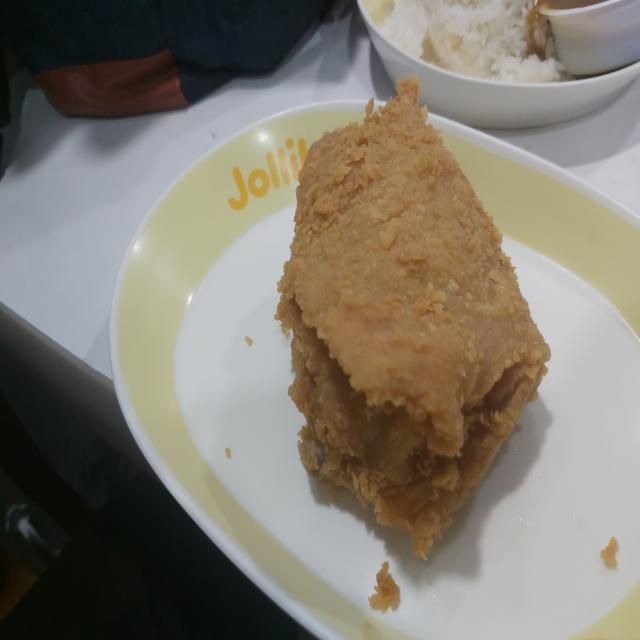Chicken -Fried Chicken-: (268, 69, 549, 583)
